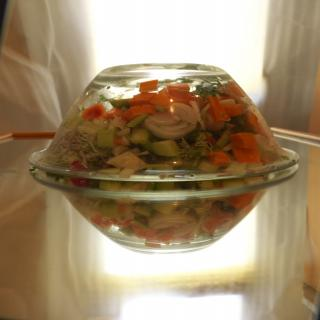Carrot: (85, 79, 222, 118), (229, 130, 260, 148)
Salad: (34, 80, 305, 256)
